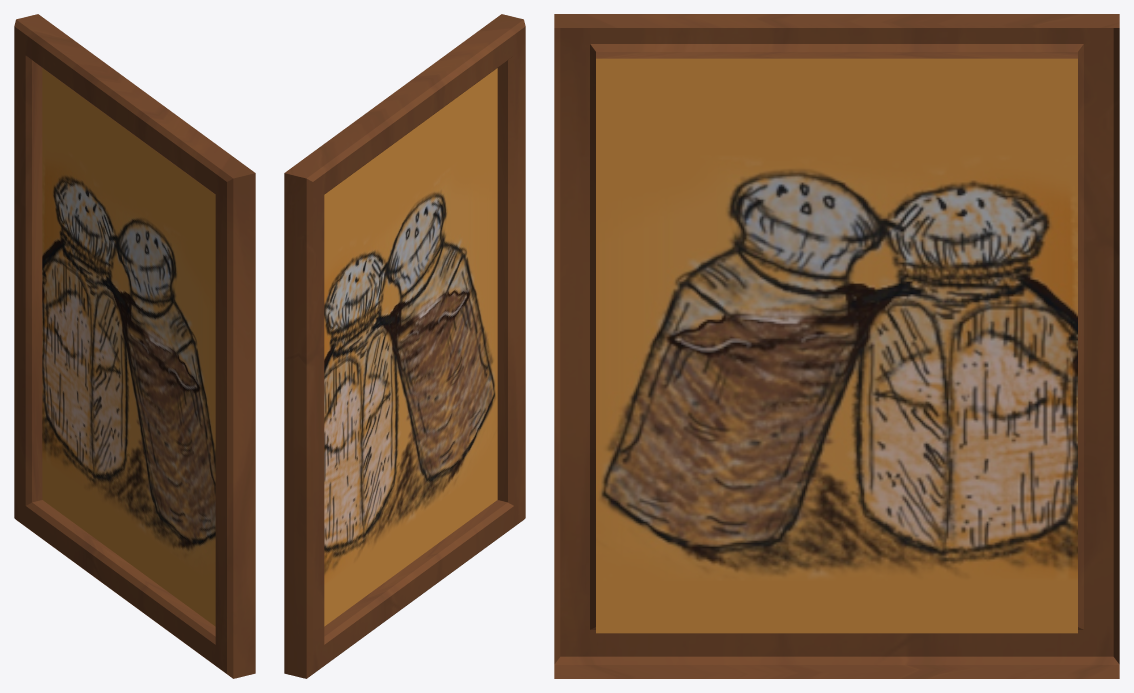
File: Painting1.fbx
3 views of the same model, side by side, from view 1: azimuth 30°, elevation 25°; view 2: azimuth 150°, elevation 25°; view 3: azimuth 270°, elevation 25° (orthographic). The views are drawn at different scales.
Visible parts, largest first — view 1: Painting1; view 2: Painting1; view 3: Painting1.
Part boxes in pixels (x1,y1,x2,y2): Painting1: [14, 14, 255, 678]; Painting1: [284, 14, 525, 678]; Painting1: [554, 14, 1119, 678].
Size of the model in its own units: 9.69 by 176 by 139.
